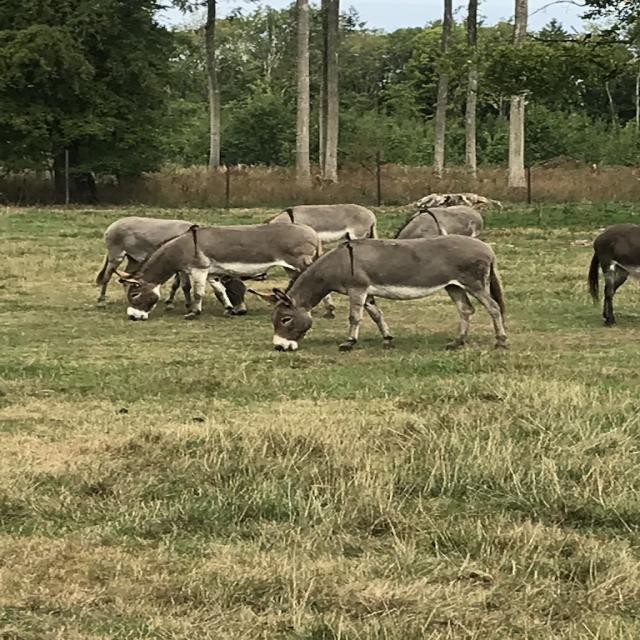Donkey: (242, 232, 510, 352), (107, 220, 336, 320), (92, 215, 248, 316), (584, 220, 638, 328), (255, 201, 378, 240), (382, 202, 486, 239)
